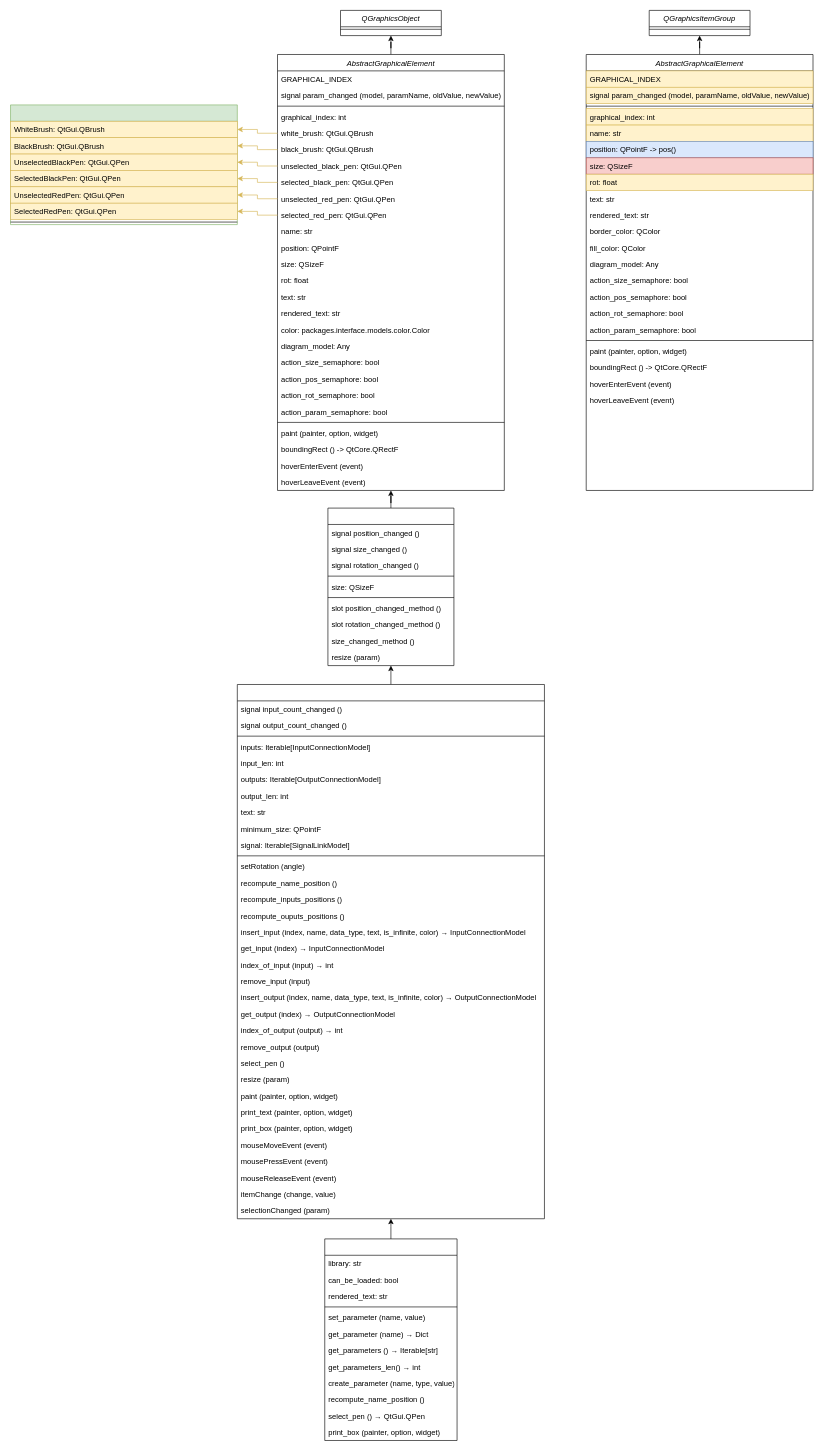
Image size: 823x1451. Some labels were removed from this diagram. Each missing label, with the box of its shape:
AbstractBoxModel: (237, 684, 544, 1219)
AbstractMoveableGraphicalElement: (327, 507, 454, 666)
BoxModel: (324, 1238, 457, 1440)
GraphicsTools: (10, 104, 237, 225)
